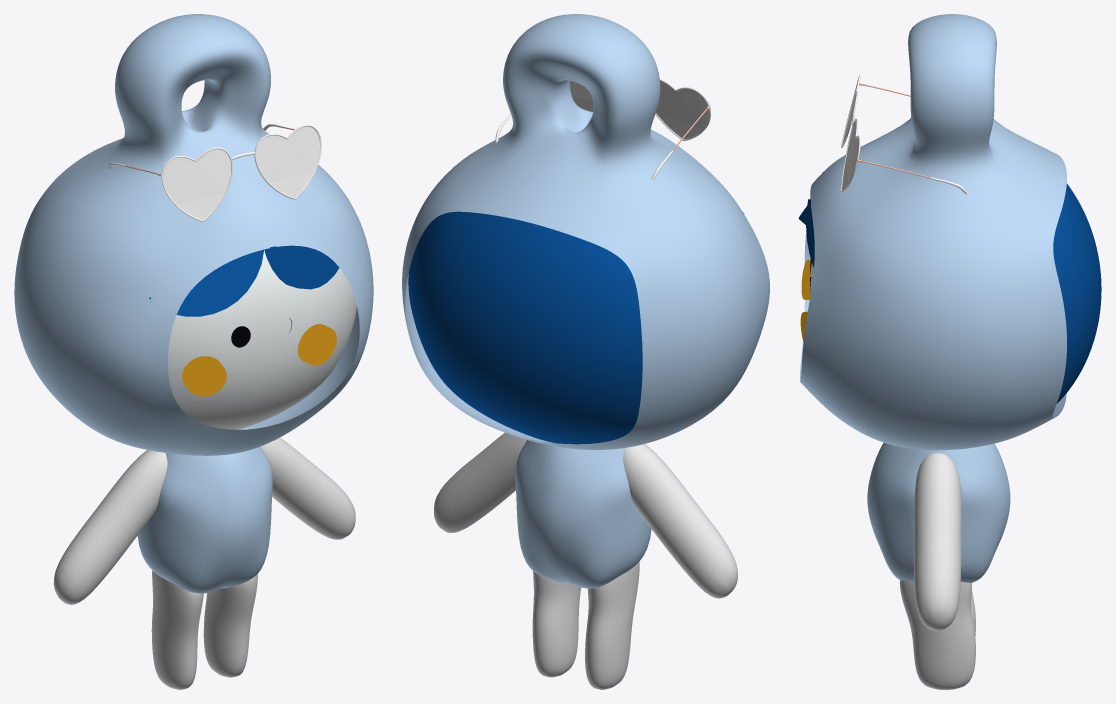
Rendered from moohan_heart_glasses.glb.
The picture shows the model from 3 angles, left to right: view 1: azimuth 30°, elevation 25°; view 2: azimuth 150°, elevation 25°; view 3: azimuth 270°, elevation 25°; orthographic projection.
Parts seen in each view (by area): view 1: Cube.002, Cube.001, Cube, Cube.003, Circle.003, Circle, Circle.001, Cylinder.004, Cylinder.005, Cylinder.007; view 2: Cube.002, Cube.004, Cube.001, Cube.003, Circle.003; view 3: Cube.002, Cube.001, Cube.003, Cube.004, Circle.003, Cylinder.007.
Boxes of the visible parts, x1,y1,x2,y2 form: Cube.002: (14,14,373,455); Cube.001: (53,437,355,689); Cube: (168,250,356,429); Cube.003: (137,427,272,593); Circle.003: (163,126,319,219); Circle: (149,249,263,316); Circle.001: (264,245,339,289); Cylinder.004: (182,356,226,396); Cylinder.005: (297,324,336,365); Cylinder.007: (161,124,321,221); Cube.002: (402,14,769,449); Cube.004: (408,211,642,444); Cube.001: (434,432,737,689); Cube.003: (515,440,651,588); Circle.003: (570,80,708,139); Cube.002: (800,14,1066,450); Cube.001: (899,453,975,689); Cube.003: (867,443,1010,582); Cube.004: (1053,183,1101,403); Circle.003: (842,93,858,190); Cylinder.007: (841,75,860,192).
Bounding box in the file's own units: 2.29 × 4.55 × 1.92.
